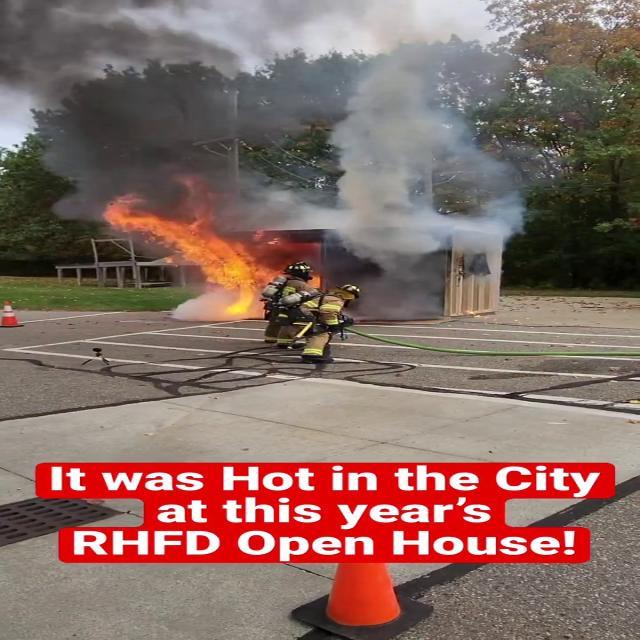Fire: (113, 202, 275, 320)
Smoke: (0, 0, 540, 242)
